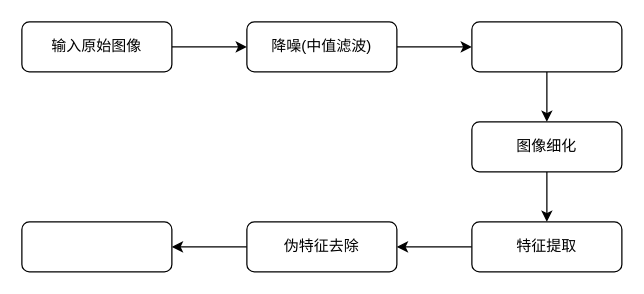
This 644x294 diagram has some shape labels left out. Each missing label, with the centre of its shape:
图像增强(归一化): (546,46)
输出特征图: (96,246)
